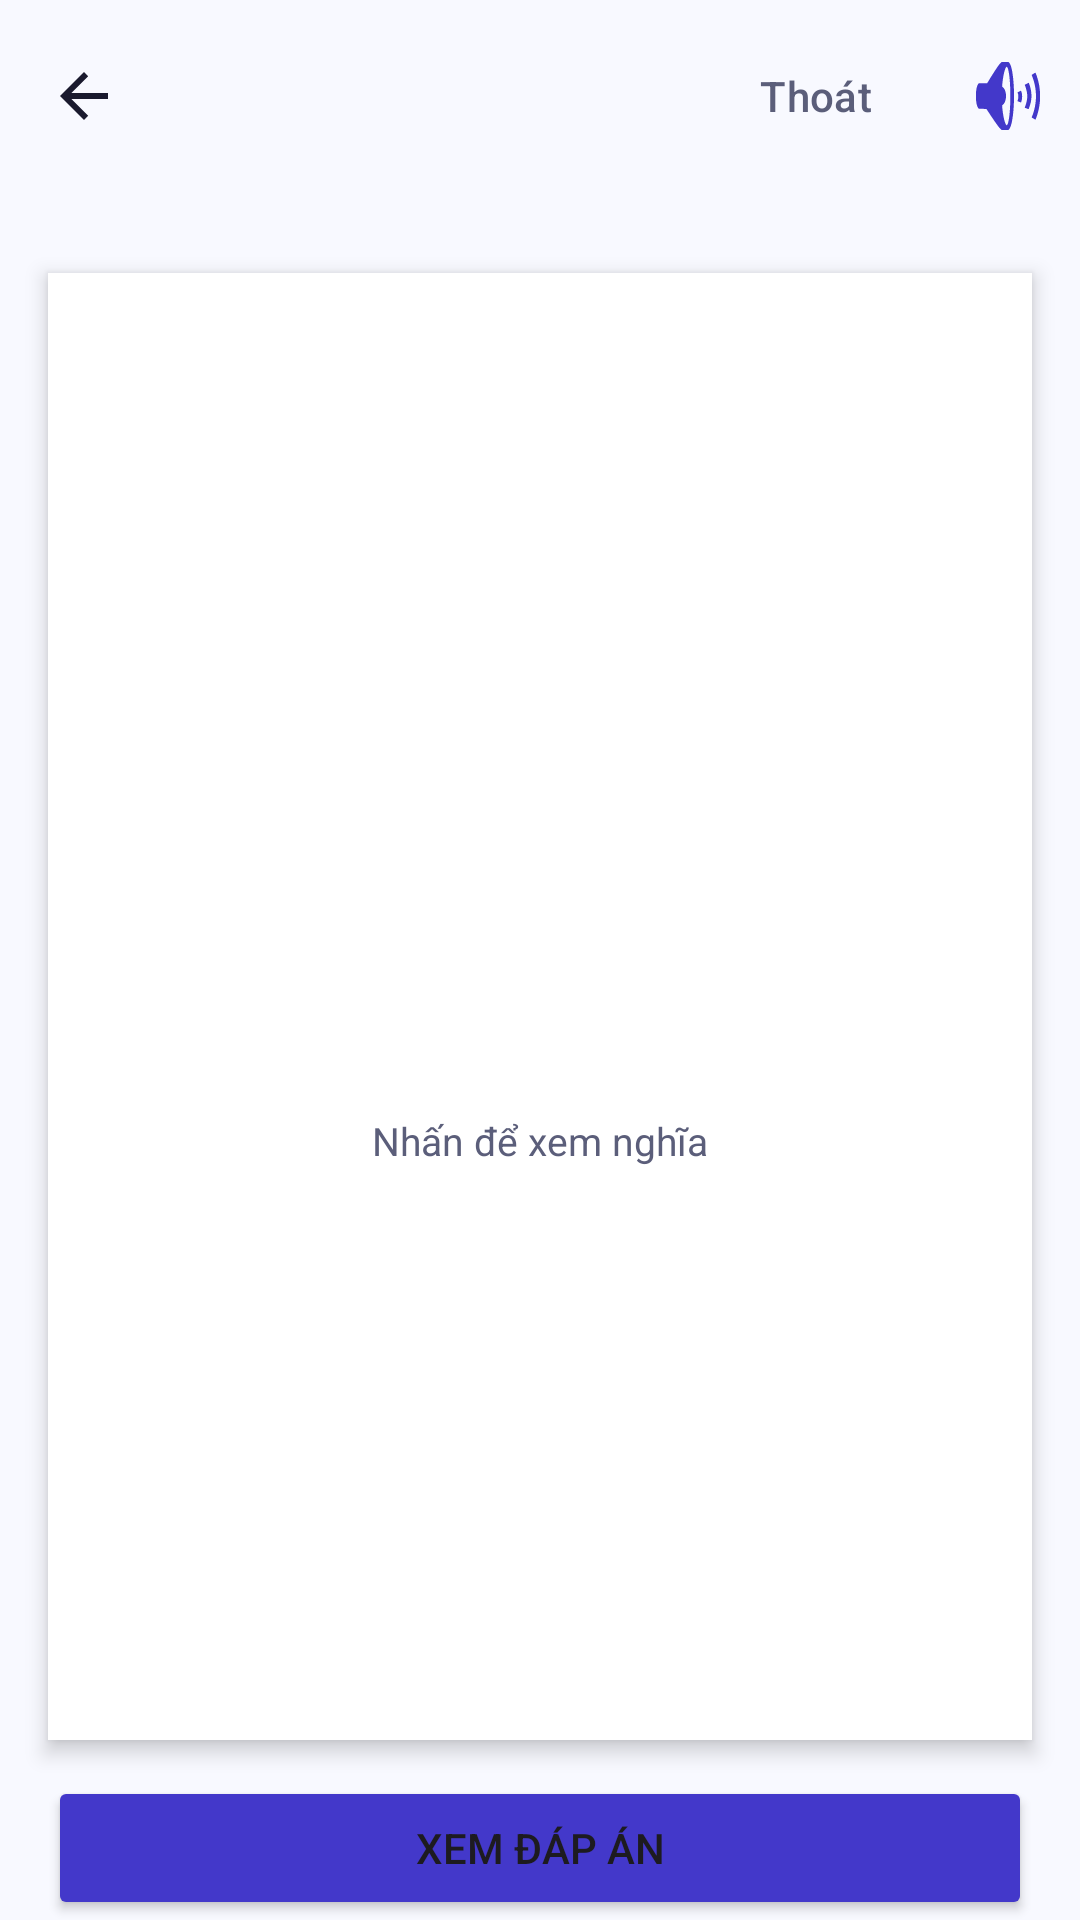

Named icons in this screenshot (1080px x 1920px) and their bounding boxes, (left=x1, top=y1, right=x2, bottom=y2):
Phát âm: (left=976, top=62, right=1040, bottom=130)
